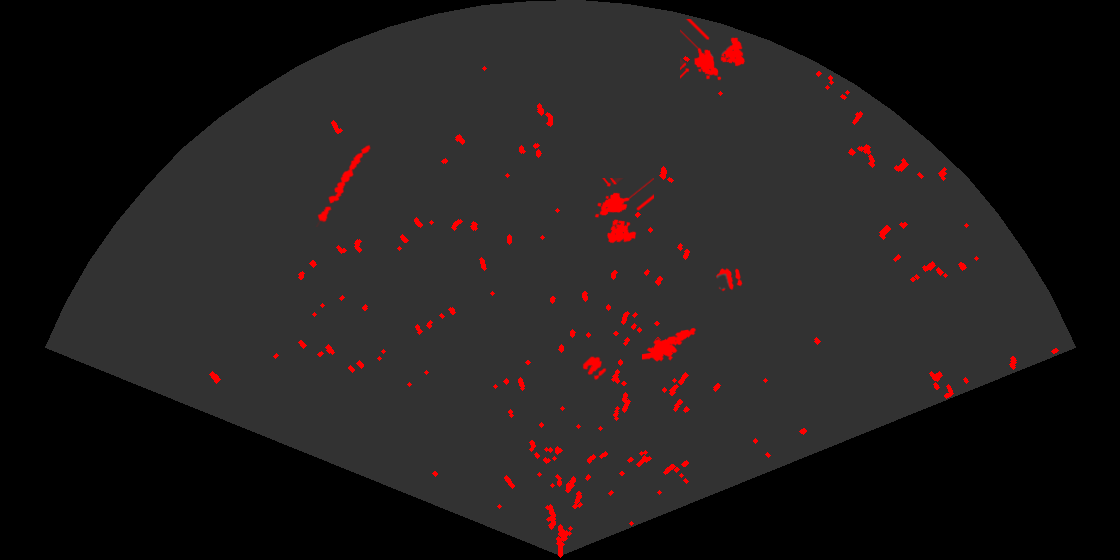ball: (714, 266, 744, 293), (581, 355, 608, 382)
cage: (680, 19, 747, 82), (593, 178, 654, 245)
chain: (314, 143, 372, 227)
frogman: (642, 326, 698, 363)
